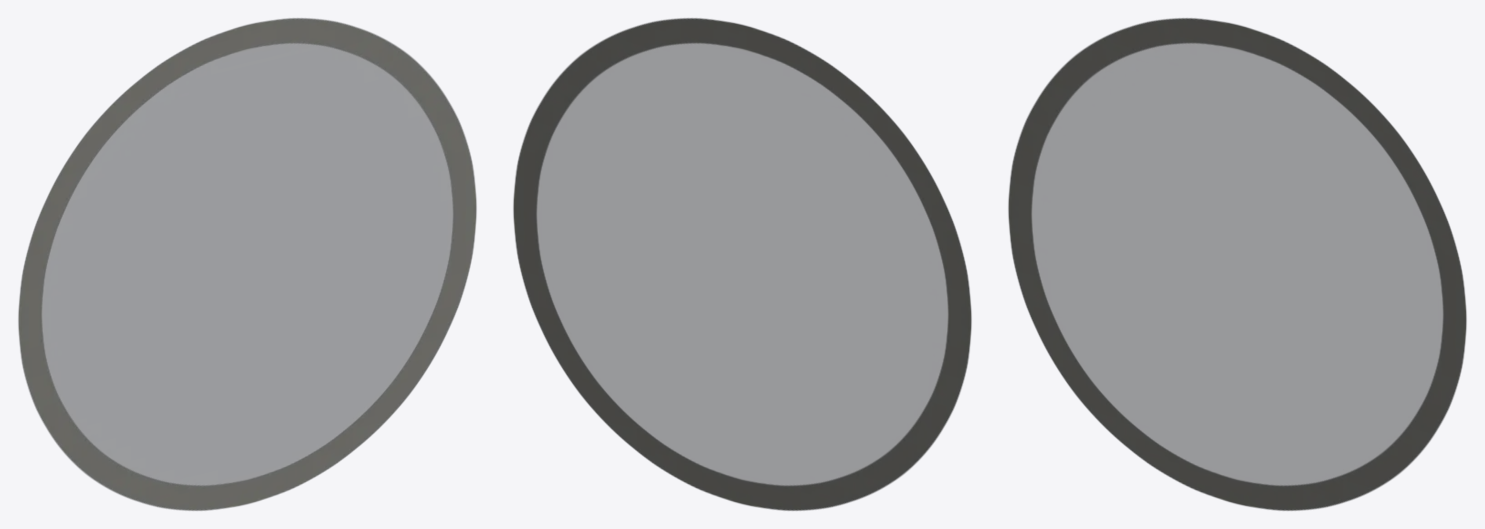
File: s2_waypoint_node.glb
The picture shows the model from 3 angles, left to right: view 1: azimuth 30°, elevation 25°; view 2: azimuth 150°, elevation 25°; view 3: azimuth 330°, elevation 25°; orthographic projection.
Visible parts, largest first — view 1: waypoint; view 2: waypoint; view 3: waypoint.
Part boxes in pixels (left/top/right/bottom): waypoint: left=18, top=18, right=476, bottom=510; waypoint: left=513, top=18, right=971, bottom=510; waypoint: left=1008, top=18, right=1466, bottom=510.
Size of the model in its own units: 0.4 by 0.4 by 0.
1 material, 1 textured.
